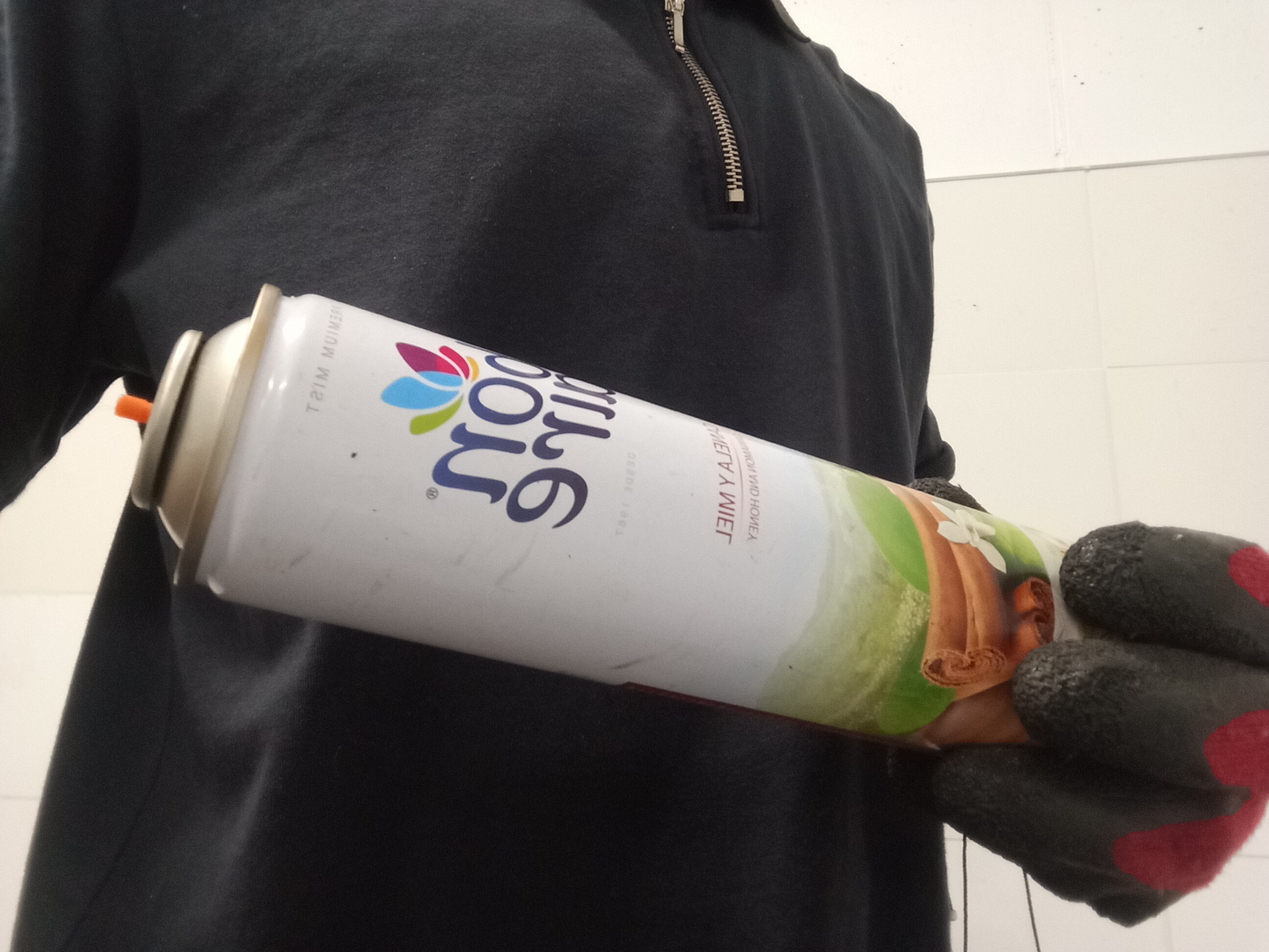Metal: (133, 283, 1091, 748)
